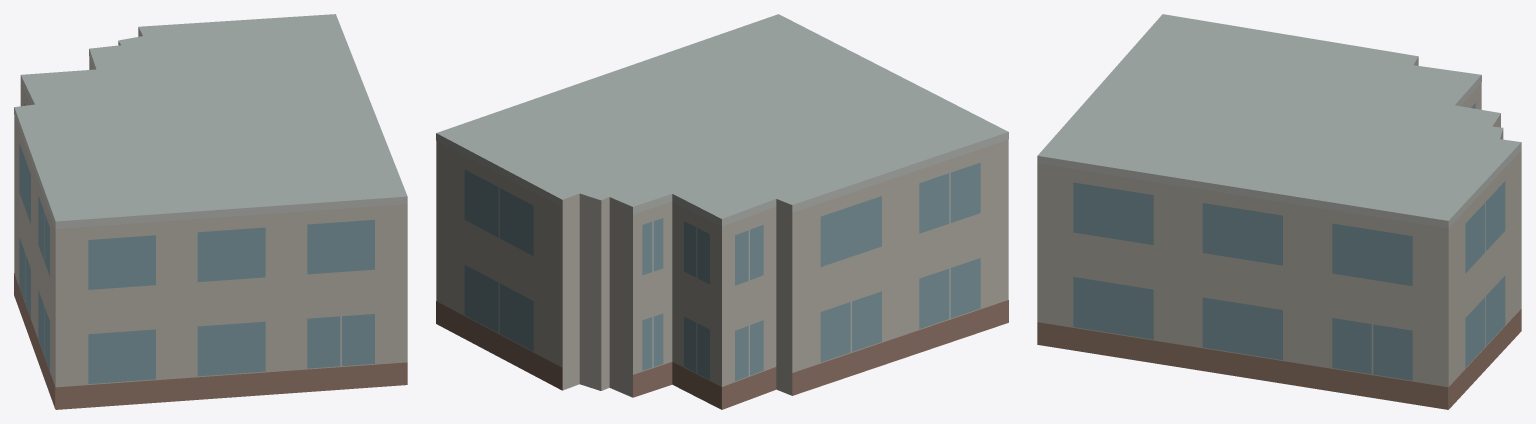
The model's file is survey-upis-32556200.glb.
3 views of the same model, side by side, from view 1: azimuth 30°, elevation 25°; view 2: azimuth 150°, elevation 25°; view 3: azimuth 270°, elevation 25° (orthographic).
Parts seen in each view (by area): view 1: survey-upis-32556200.tmp; view 2: survey-upis-32556200.tmp; view 3: survey-upis-32556200.tmp.
Boxes of the visible parts, x1=… form: survey-upis-32556200.tmp: x1=14, y1=14, x2=407, y2=409; survey-upis-32556200.tmp: x1=436, y1=14, x2=1008, y2=409; survey-upis-32556200.tmp: x1=1037, y1=14, x2=1521, y2=409.
Bounding box in the file's own units: 14.34 × 6.1 × 14.18.
